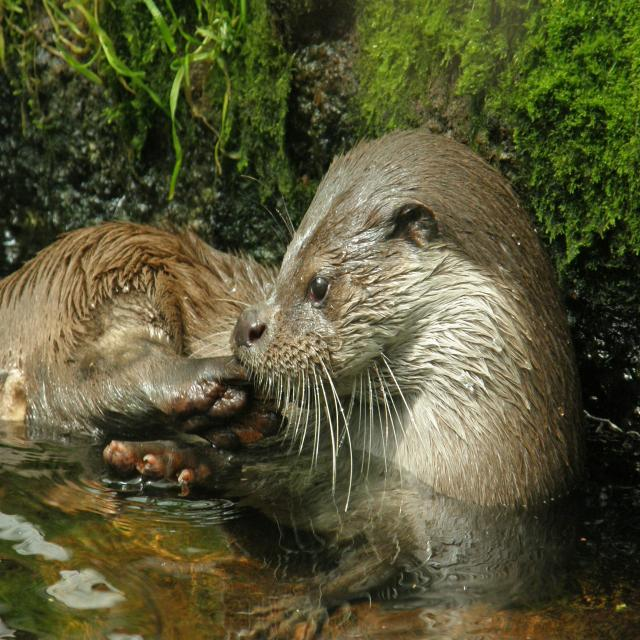otter: (1, 133, 577, 508)
